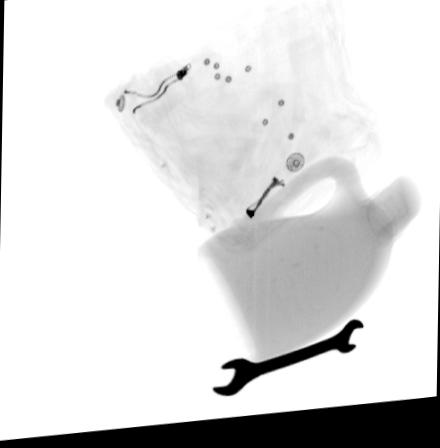Wrench: (207, 327, 365, 402)
